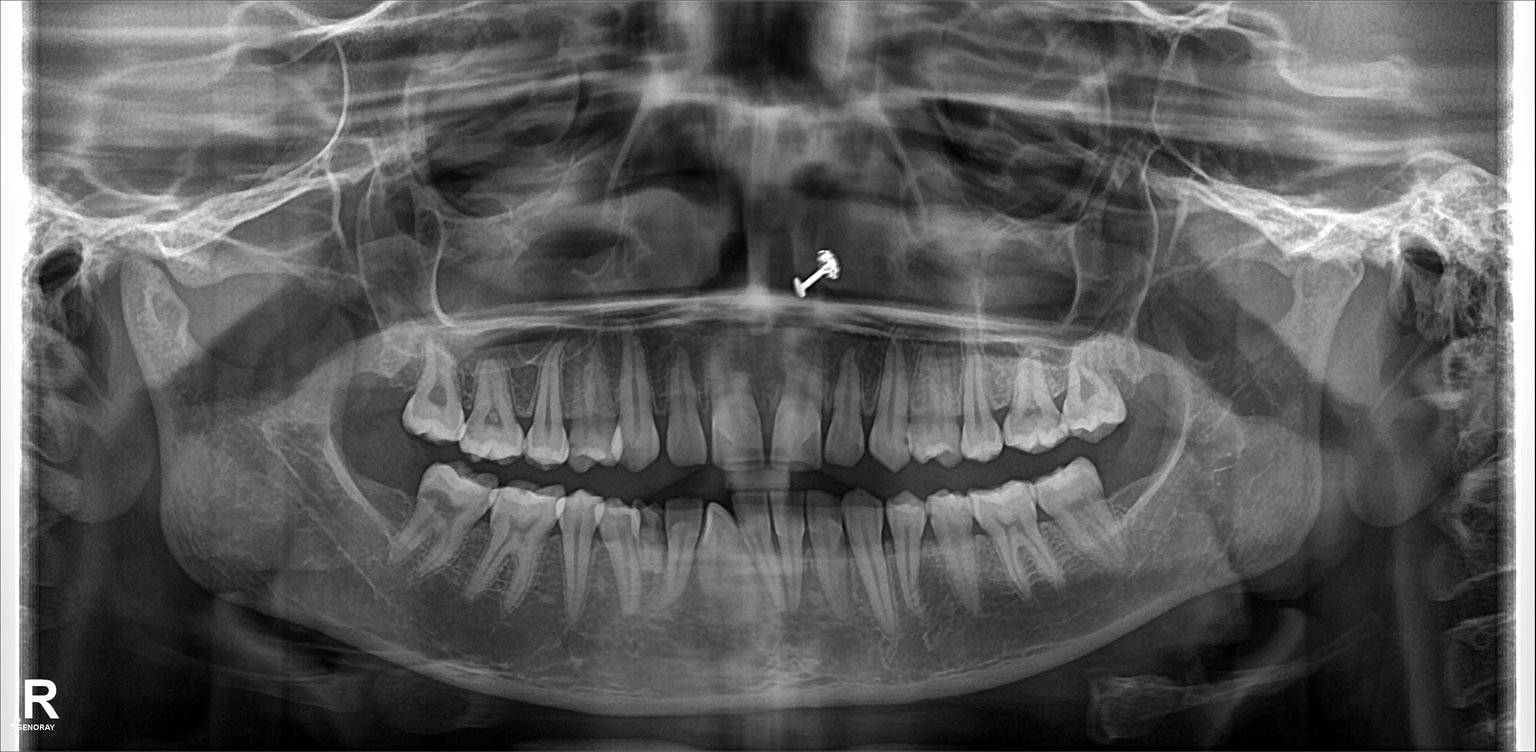Dental Caries: (432, 486, 462, 526)
Missing Tooth: (358, 447, 414, 541), (358, 337, 413, 417), (1102, 452, 1159, 521), (1117, 331, 1162, 408)
